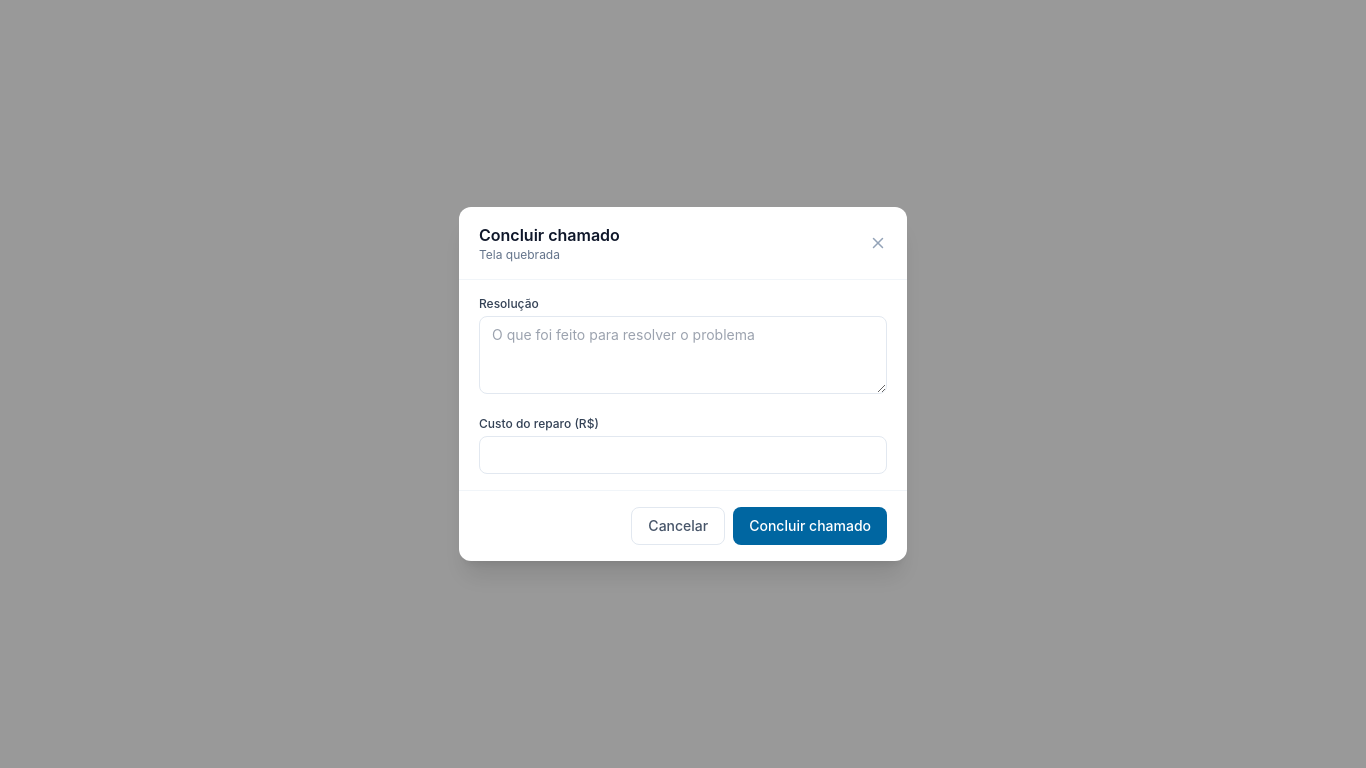
MaintenanceCompleteModal › shows an error message when the request fails
Click the button "Concluir chamado". click: (810, 526)
box: 733,507 -> 887,545
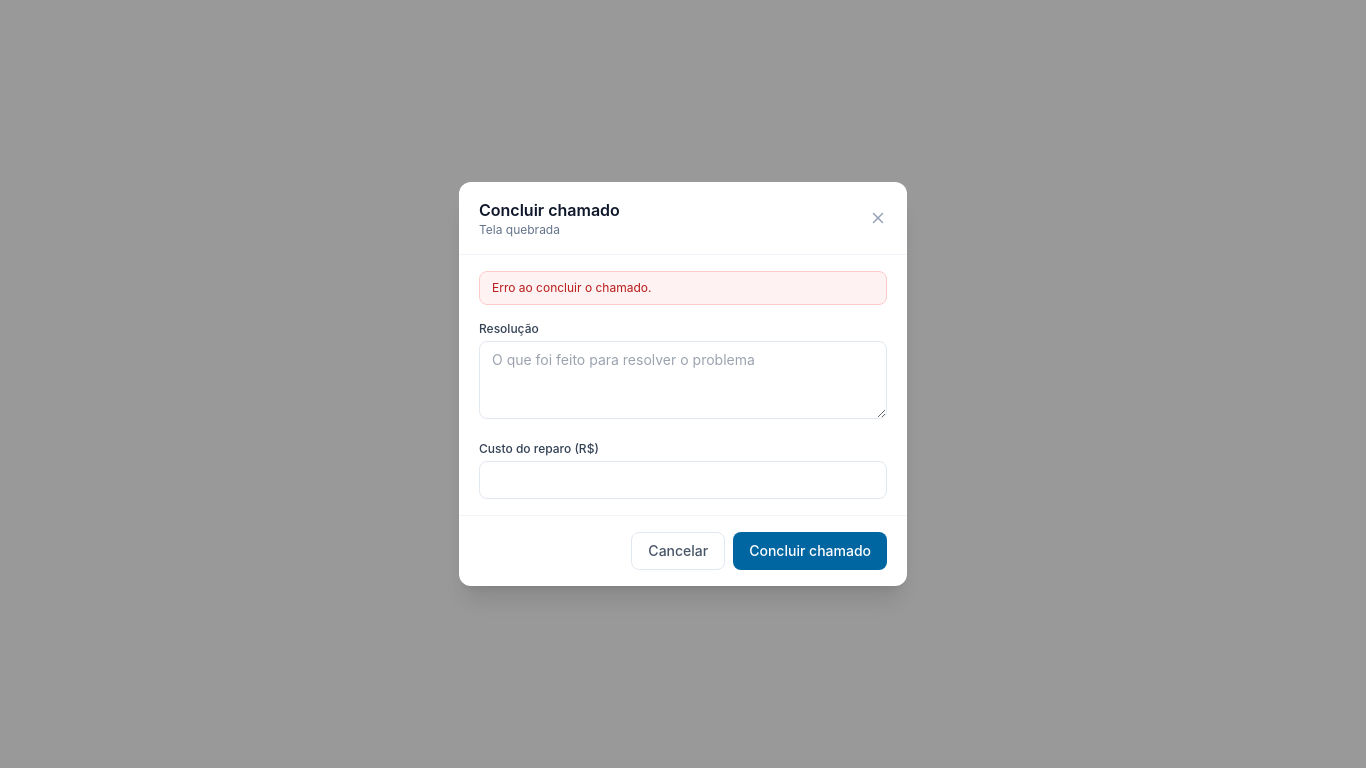
Expected: the text "Erro ao concluir o chamado." is shown, 479,271 -> 887,305
